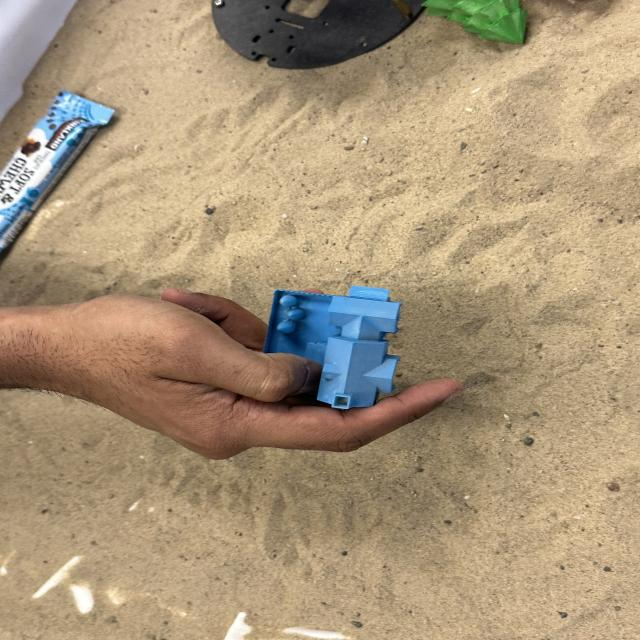house: (262, 284, 403, 410)
tree: (421, 0, 528, 45)
